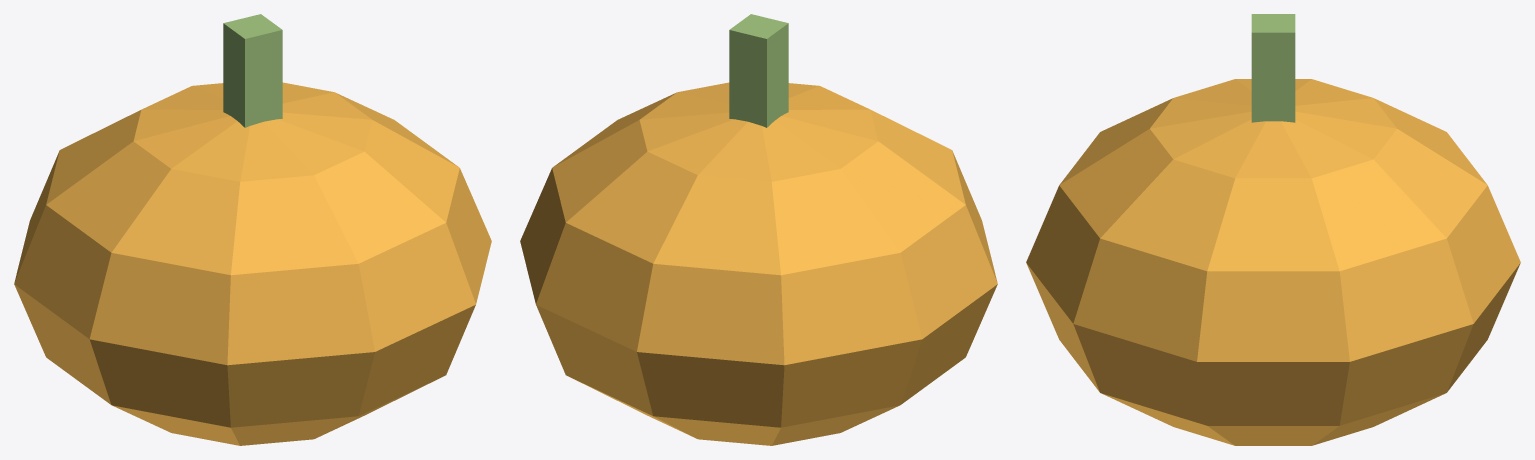
Rendered from pumpkin.glb.
3 renders of one model, left to right at view 1: azimuth 30°, elevation 25°; view 2: azimuth 150°, elevation 25°; view 3: azimuth 270°, elevation 25°, orthographic.
Parts seen in each view (by area): view 1: pumpkin; view 2: pumpkin; view 3: pumpkin.
Boxes of the visible parts, left/top/right/bottom form: pumpkin: left=14, top=14, right=491, bottom=445; pumpkin: left=520, top=14, right=997, bottom=445; pumpkin: left=1026, top=14, right=1520, bottom=445.
Size of the model in its own units: 0.856 by 0.79 by 0.9.
